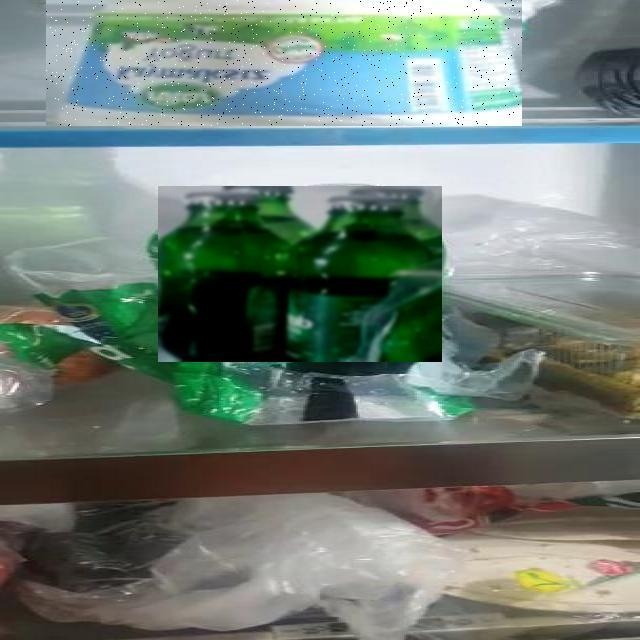Water: (158, 186, 442, 362)
Yoghurt: (46, 0, 522, 126)
